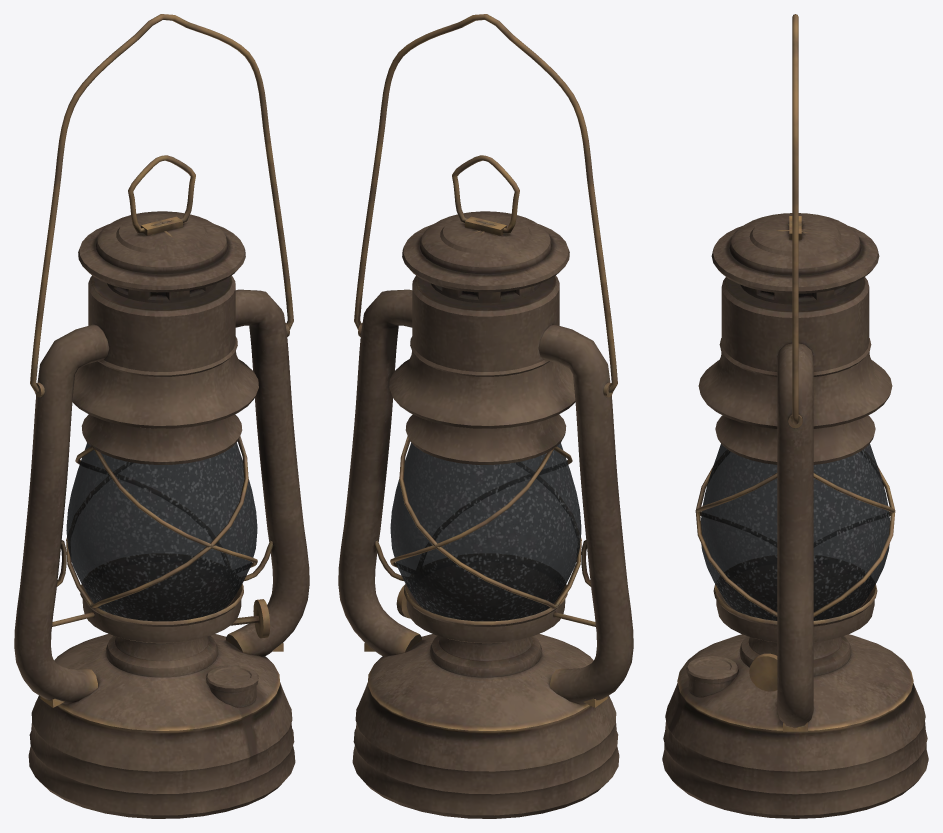
The model's file is hurricane-lantern_final.glb.
3 renders of one model, left to right at view 1: azimuth 30°, elevation 25°; view 2: azimuth 150°, elevation 25°; view 3: azimuth 270°, elevation 25°, orthographic.
Visible parts, largest first — view 1: SM_HurricaneLantern_Fount, SM_HurricaneLantern_Tubes, SM_HurricaneLantern_Chimney, SM_HurricaneLantern_Globe, SM_HurricaneLantern_Cap, SM_HurricaneLantern_Burner, SM_HurricaneLantern_Bail, SM_HurricaneLantern_GuardWires, SM_HurricaneLantern_FillerCap, SM_HurricaneLantern_TopRing, SM_HurricaneLantern_LiftLever, SM_HurricaneLantern_WickKnob; view 2: SM_HurricaneLantern_Fount, SM_HurricaneLantern_Tubes, SM_HurricaneLantern_Chimney, SM_HurricaneLantern_Globe, SM_HurricaneLantern_Cap, SM_HurricaneLantern_Burner, SM_HurricaneLantern_Bail, SM_HurricaneLantern_GuardWires, SM_HurricaneLantern_TopRing, SM_HurricaneLantern_LiftLever; view 3: SM_HurricaneLantern_Fount, SM_HurricaneLantern_Chimney, SM_HurricaneLantern_Globe, SM_HurricaneLantern_Tubes, SM_HurricaneLantern_Cap, SM_HurricaneLantern_Burner, SM_HurricaneLantern_Bail, SM_HurricaneLantern_GuardWires, SM_HurricaneLantern_FillerCap, SM_HurricaneLantern_WickKnob.
Part boxes in pixels (box(x1,y1,x2,y2)): SM_HurricaneLantern_Fount: box(28, 633, 295, 818); SM_HurricaneLantern_Tubes: box(14, 289, 309, 707); SM_HurricaneLantern_Chimney: box(72, 275, 258, 464); SM_HurricaneLantern_Globe: box(66, 442, 257, 621); SM_HurricaneLantern_Cap: box(78, 211, 245, 292); SM_HurricaneLantern_Burner: box(80, 584, 243, 677); SM_HurricaneLantern_Bail: box(30, 14, 293, 392); SM_HurricaneLantern_GuardWires: box(66, 436, 257, 608); SM_HurricaneLantern_FillerCap: box(206, 665, 258, 707); SM_HurricaneLantern_TopRing: box(128, 155, 195, 232); SM_HurricaneLantern_LiftLever: box(52, 540, 273, 626); SM_HurricaneLantern_WickKnob: box(231, 599, 270, 638); SM_HurricaneLantern_Fount: box(352, 633, 619, 818); SM_HurricaneLantern_Tubes: box(338, 289, 633, 707); SM_HurricaneLantern_Chimney: box(389, 275, 575, 464); SM_HurricaneLantern_Globe: box(390, 442, 581, 621); SM_HurricaneLantern_Cap: box(402, 211, 569, 292); SM_HurricaneLantern_Burner: box(404, 584, 567, 677); SM_HurricaneLantern_Bail: box(354, 14, 617, 392); SM_HurricaneLantern_GuardWires: box(390, 436, 581, 608); SM_HurricaneLantern_TopRing: box(452, 155, 519, 232); SM_HurricaneLantern_LiftLever: box(374, 540, 595, 626); SM_HurricaneLantern_Fount: box(662, 634, 928, 818); SM_HurricaneLantern_Chimney: box(698, 277, 892, 464); SM_HurricaneLantern_Globe: box(701, 444, 889, 620); SM_HurricaneLantern_Tubes: box(777, 343, 813, 731); SM_HurricaneLantern_Cap: box(711, 213, 879, 293); SM_HurricaneLantern_Burner: box(713, 584, 877, 676); SM_HurricaneLantern_Bail: box(792, 14, 798, 424); SM_HurricaneLantern_GuardWires: box(695, 465, 895, 616); SM_HurricaneLantern_FillerCap: box(686, 656, 738, 697); SM_HurricaneLantern_WickKnob: box(749, 653, 777, 691).
Bounding box in the file's own units: 0.1461 × 0.3614 × 0.1164.
2 materials, 2 textured.
